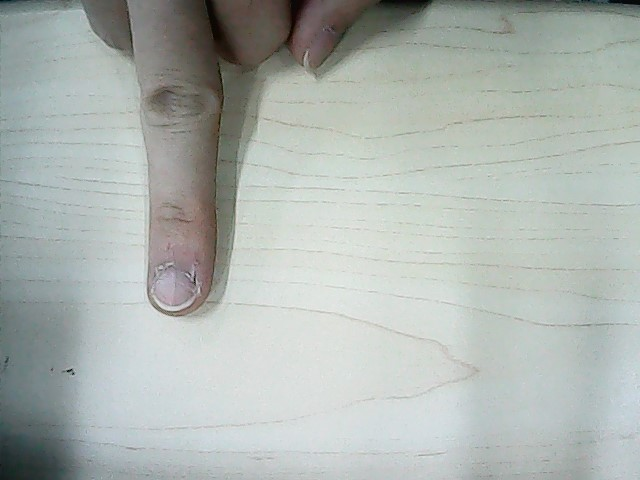nail: (154, 266, 195, 314)
